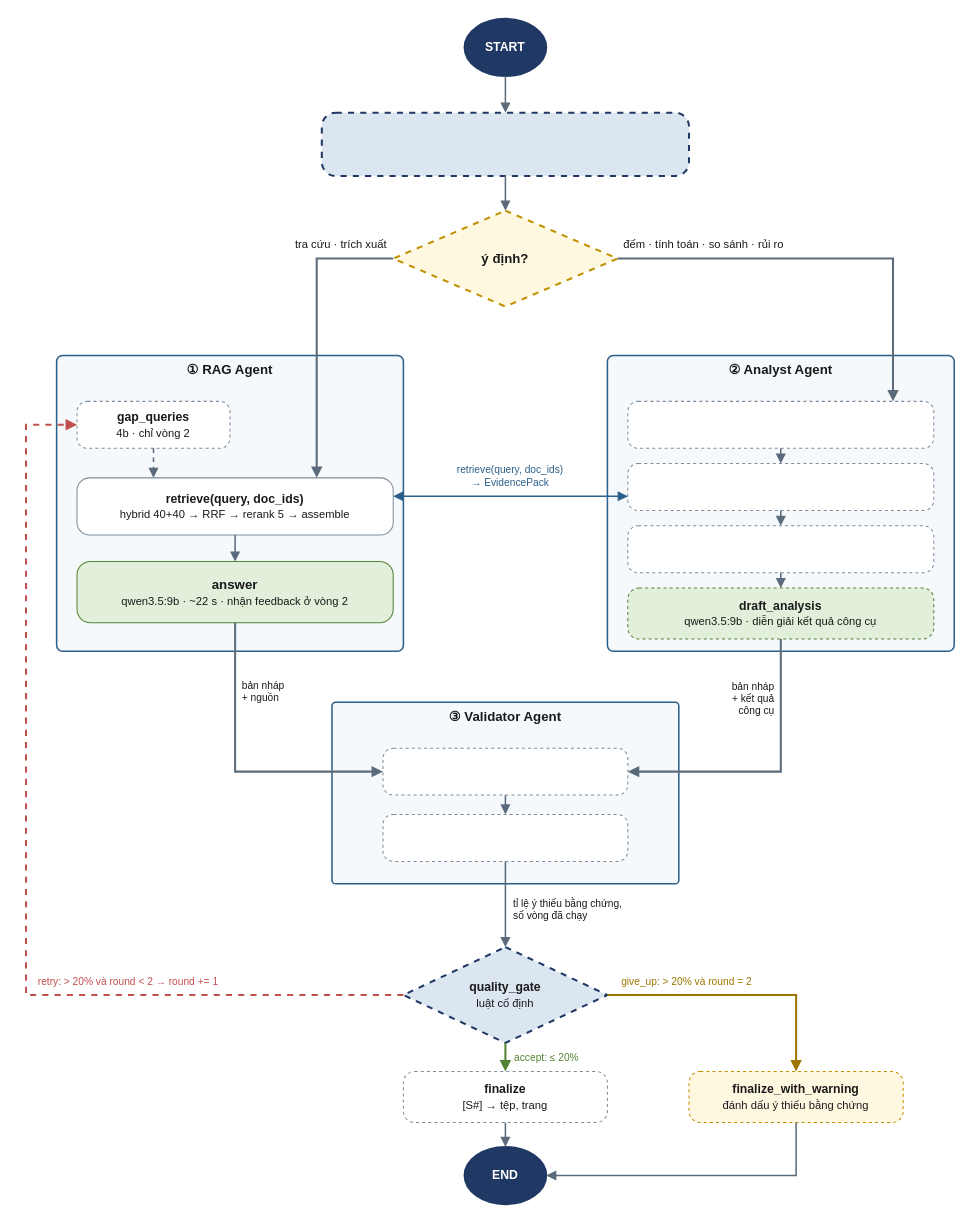
The diagram is 972 pixels wide and 1222 high, and some of its shapes have lost their labels. Here are the shapes that lost their labels. From the top down, the centre of each, then its label:
(x=505, y=143): coordinator_route qwen3.5:4b · format=schema · ~5 s
(x=780, y=424): plan_tools 4b · format=schema · ~19 s
(x=780, y=487): request_evidence gọi RAG theo từng văn bản
(x=780, y=549): run_tools outline · calculate · compare · risk_check
(x=505, y=771): check_numbers mã tất định · không gọi LLM
(x=505, y=837): verify_claims 4b · format=schema · ~18 s
